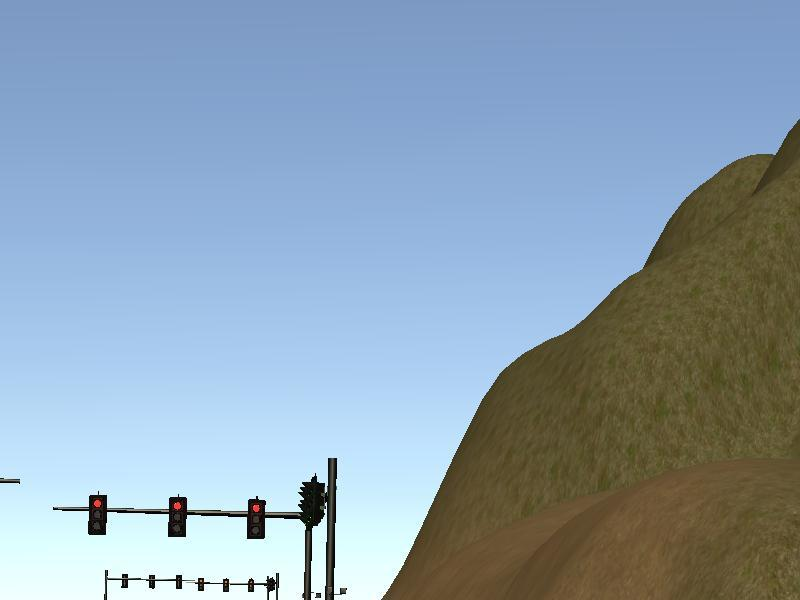Red: (247, 499, 264, 539), (168, 497, 185, 537), (88, 495, 105, 535)
